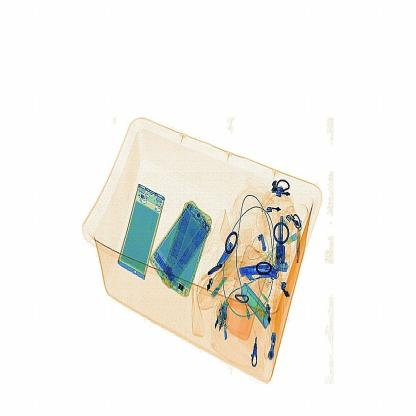knife: (224, 256, 286, 288)
